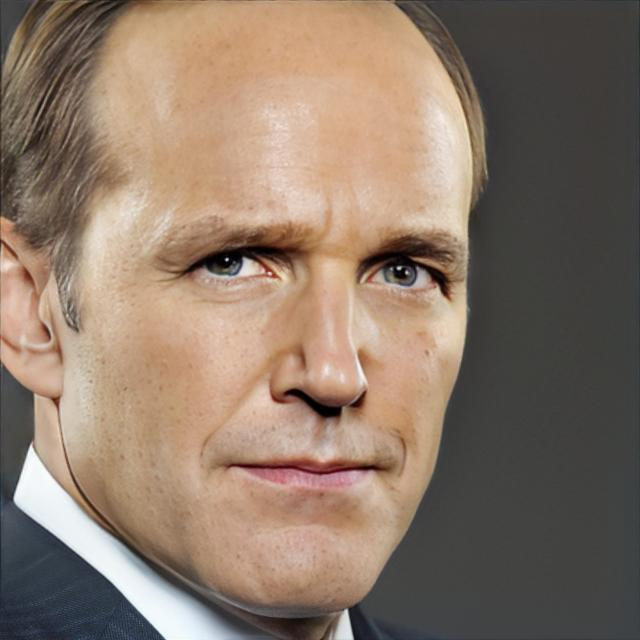content: (61, 1, 474, 610)
